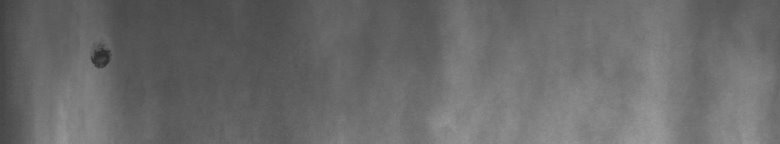fi: (84, 37, 116, 76)
